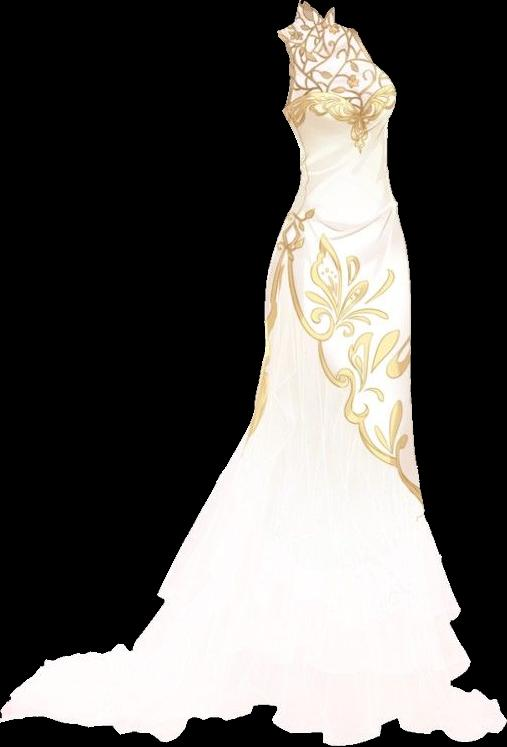Bodice: (277, 0, 396, 177)
Hemline: (265, 246, 422, 500), (0, 697, 506, 746)
Neckline: (282, 82, 396, 115), (296, 0, 338, 28)
Skirt: (1, 178, 506, 745)
